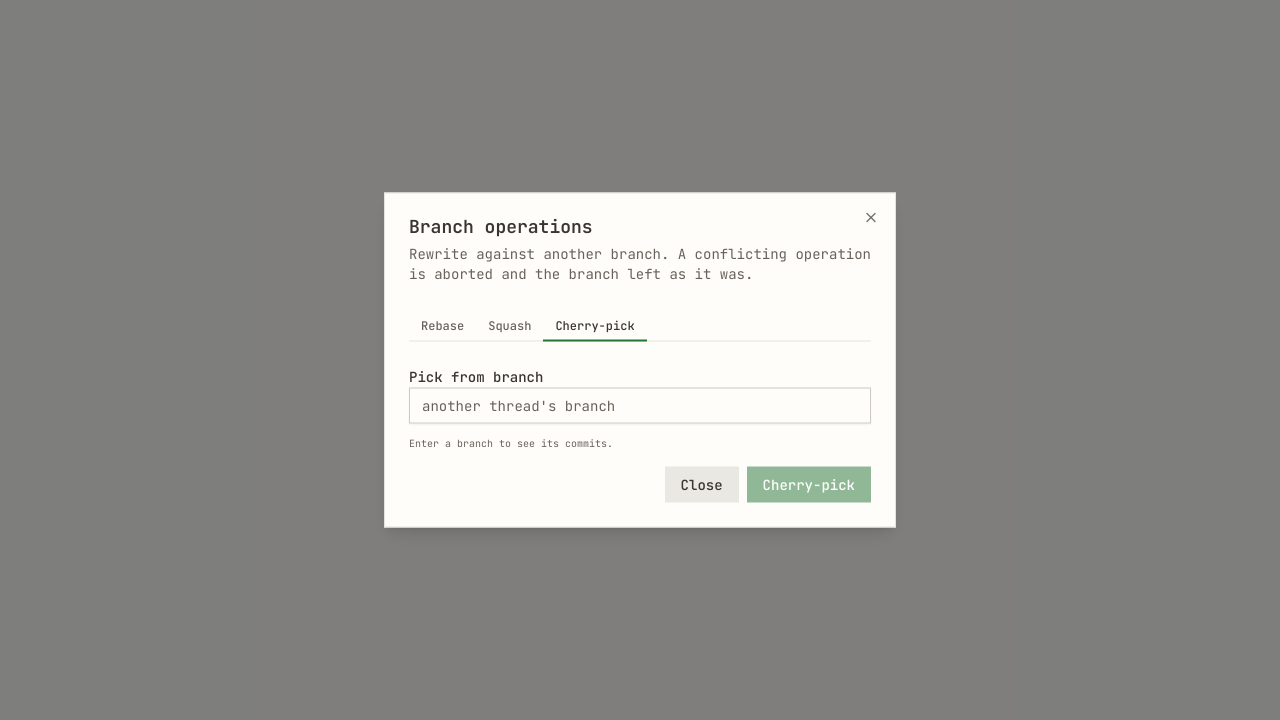
Test case: GitOpsDialog cherry-pick › disables Cherry-pick once the branch field is cleared
This screenshot has width=1280, height=720.
Step 1. Type "feature" into the field labelled "Pick from branch" → (640, 406), box [409,388,871,424]
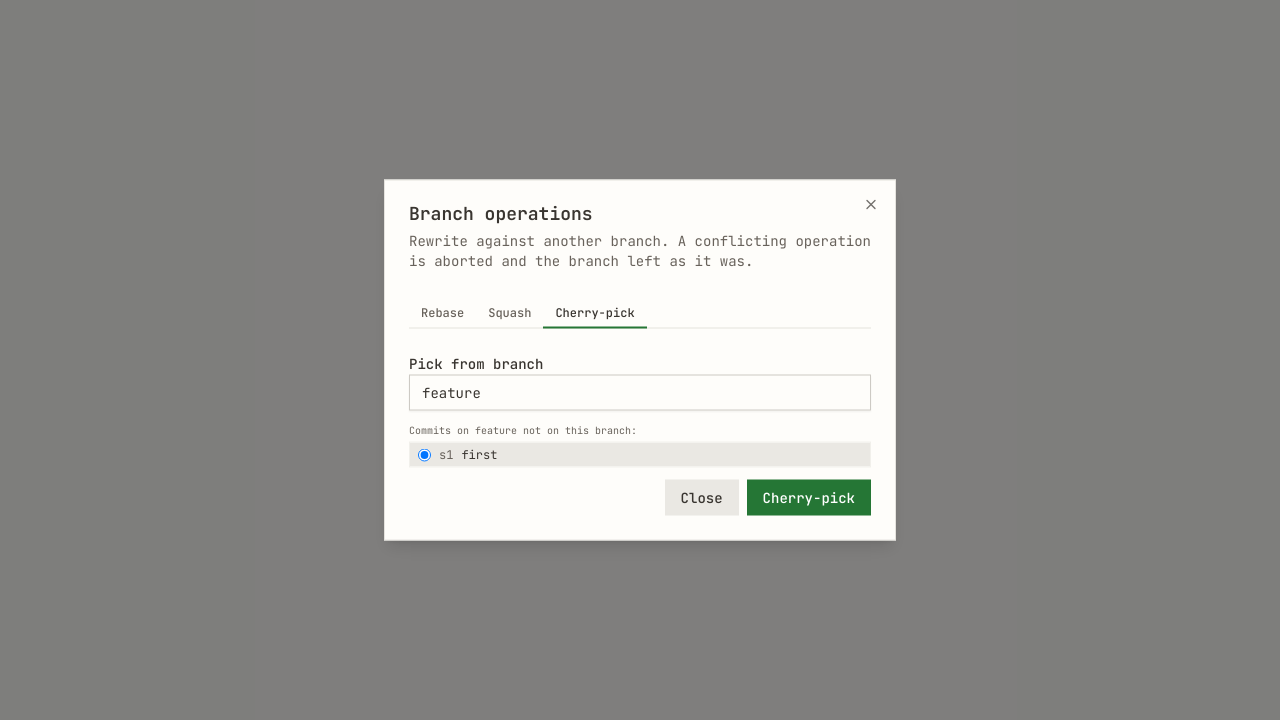
Expected: the button "Cherry-pick" is enabled, [747,480,871,516]
Step 2. Clear the field labelled "Pick from branch" → (640, 392), box [409,374,871,410]
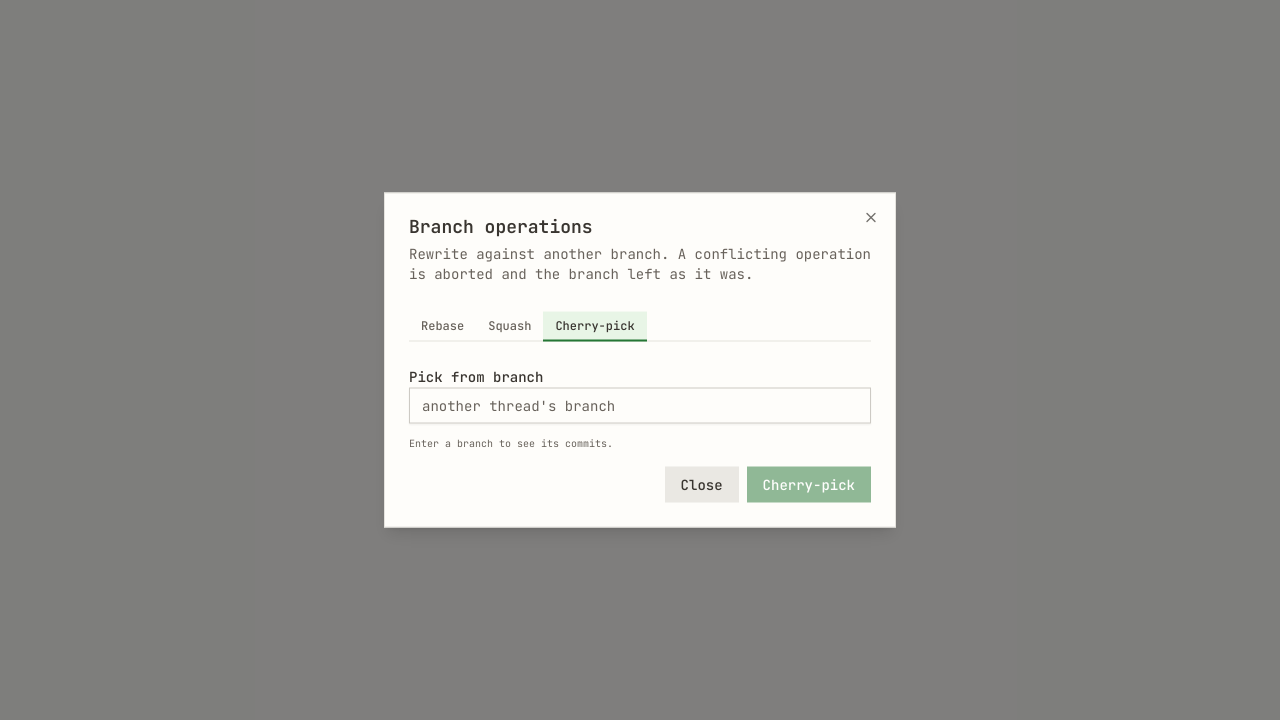
Expected: the button "Cherry-pick" is disabled, [747,466,871,502]
